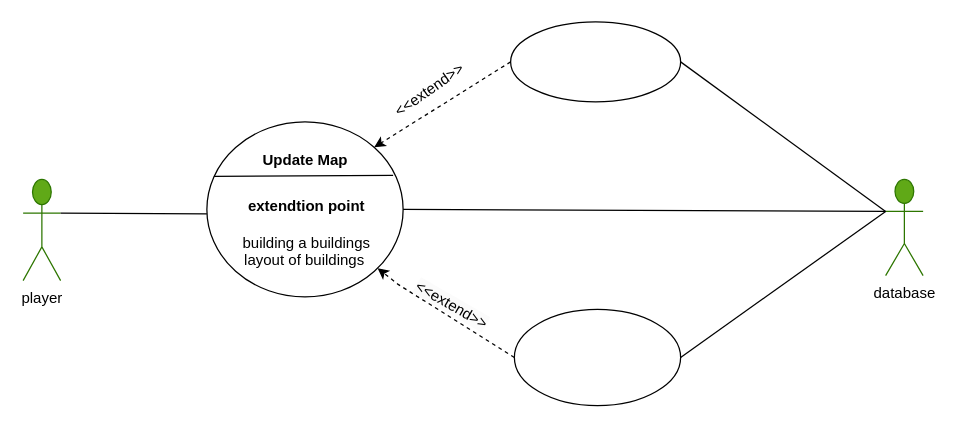
The diagram is 956 pixels wide and 428 high, and some of its shapes have lost their labels. The centre of each missing label's shape, as x and y in pixels:
"Layout of buildings" belongs at [597,357].
"Order to the worker" belongs at [595,61].
